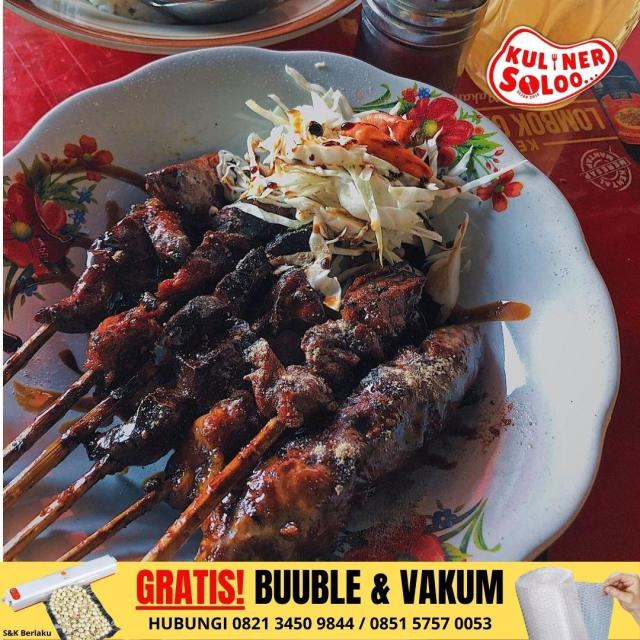Sate: (32, 187, 490, 570)
